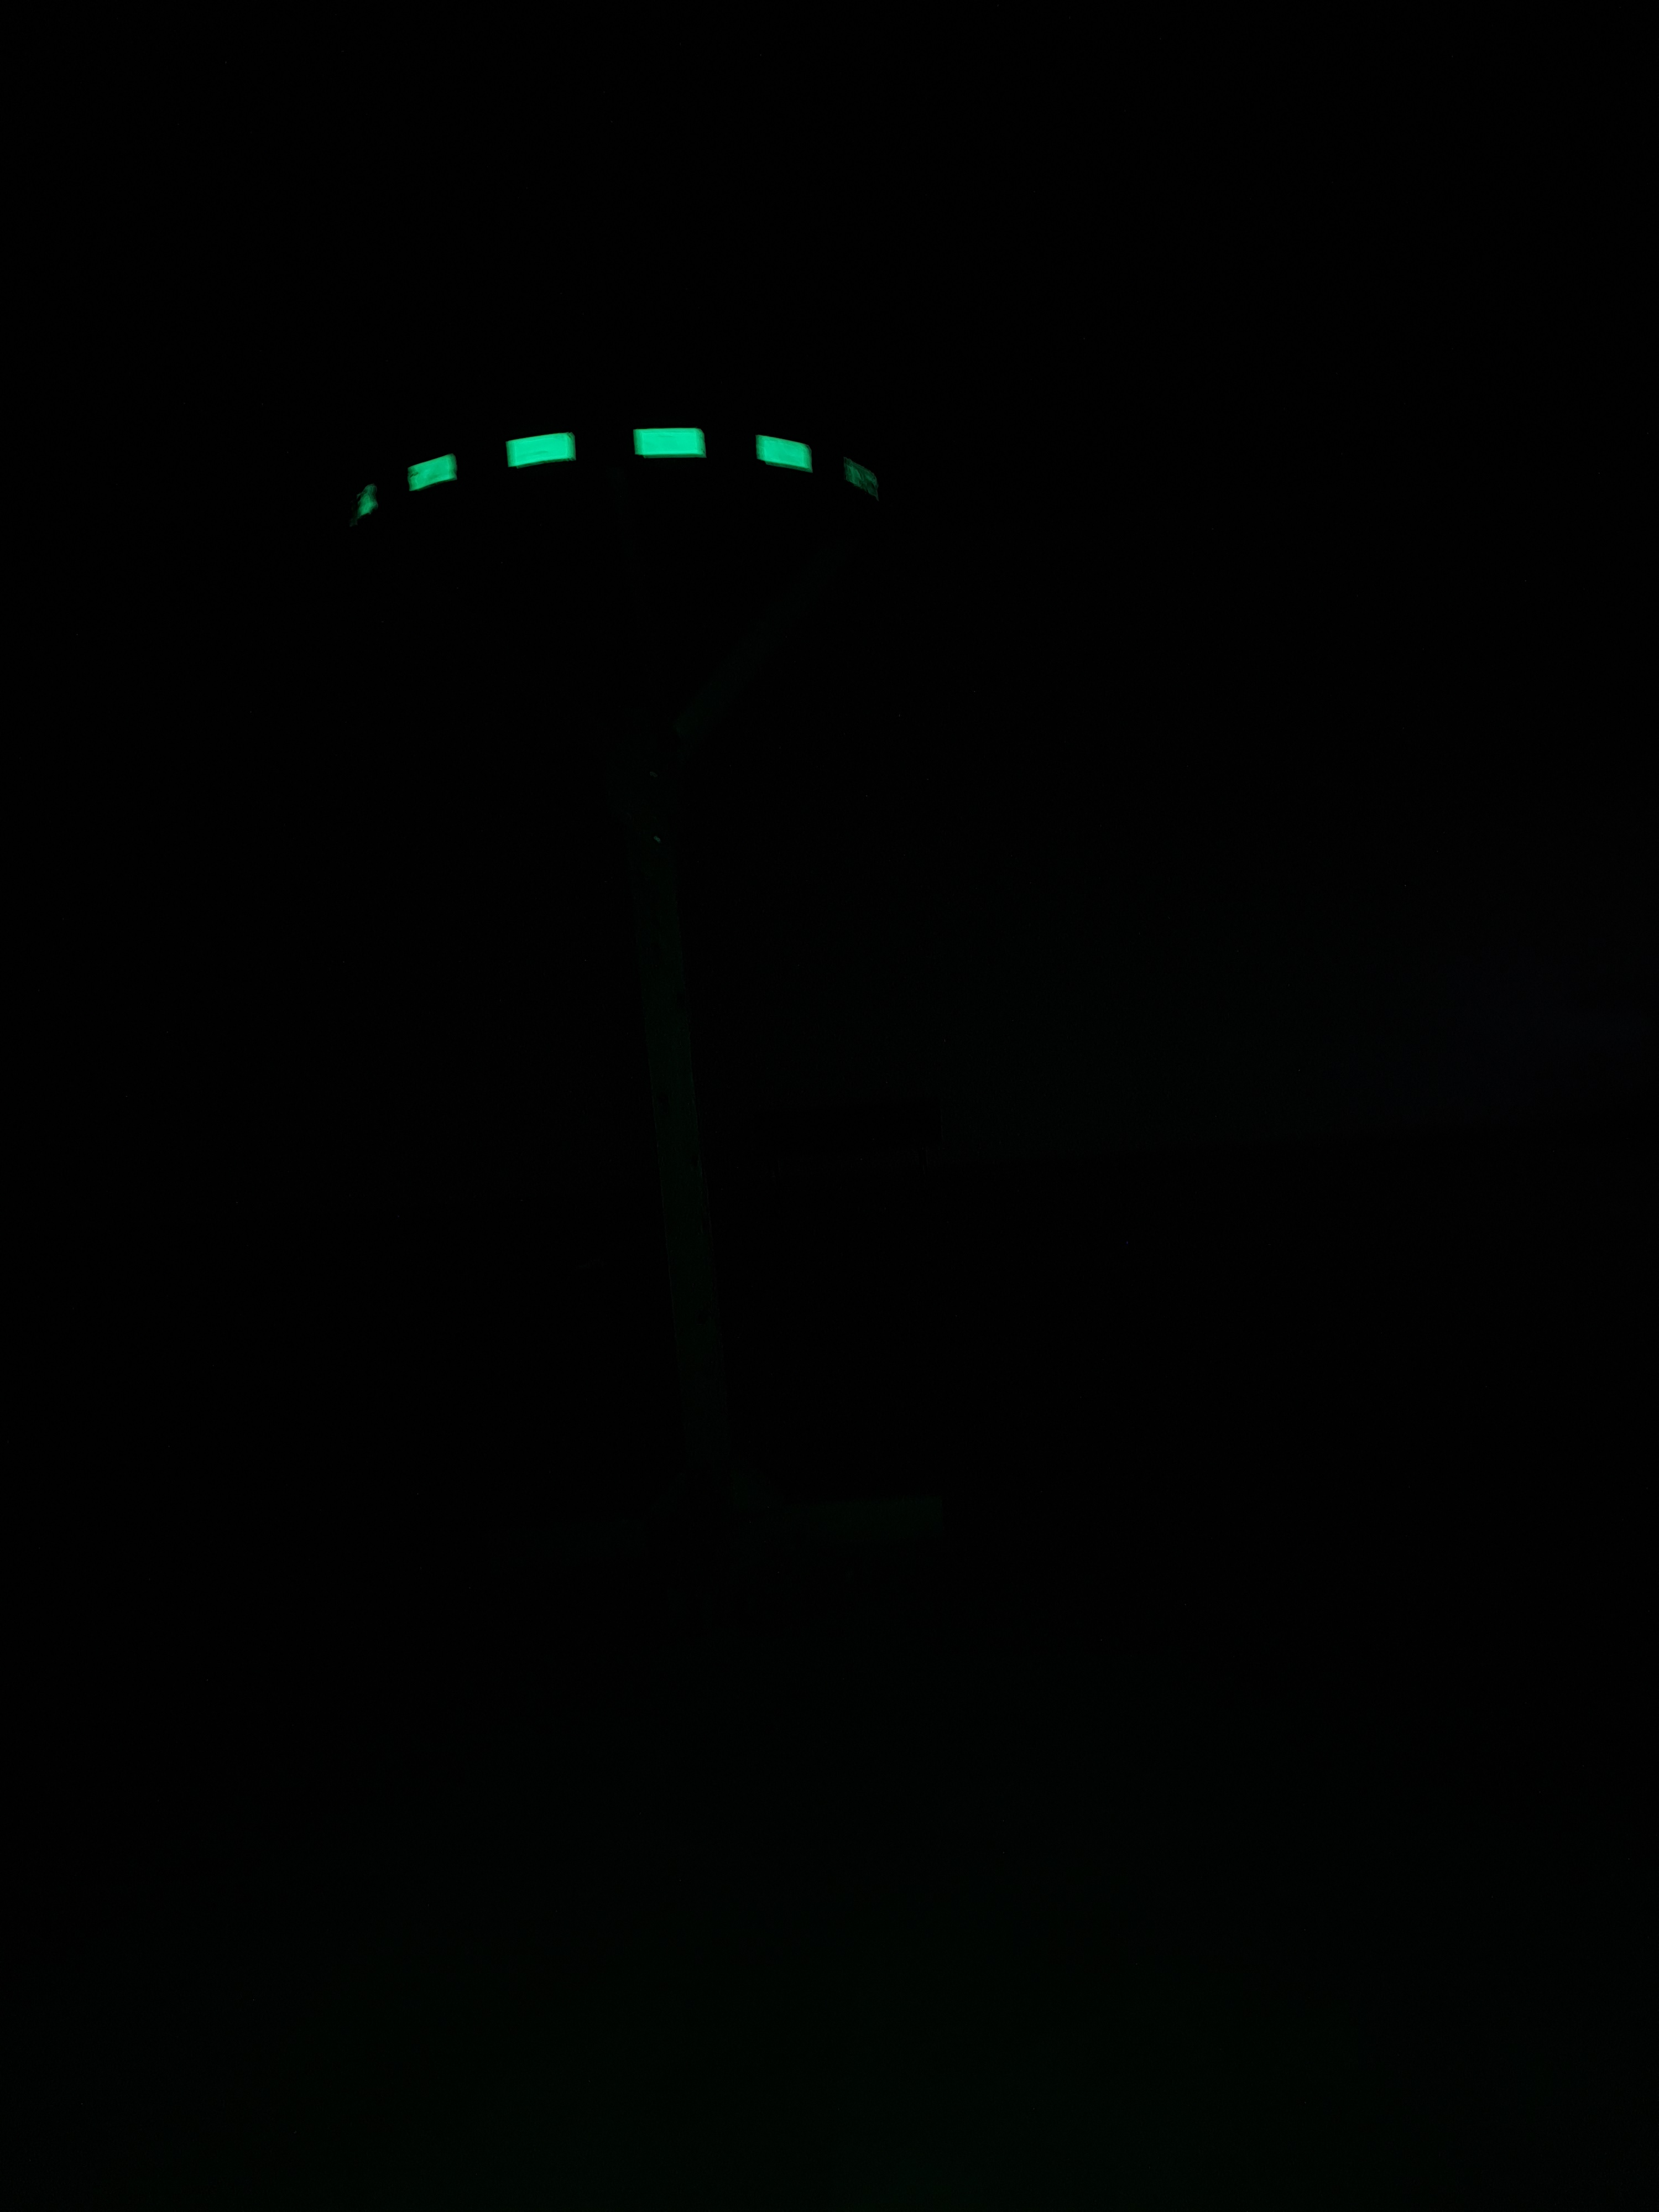hoop: (343, 423, 882, 542)
